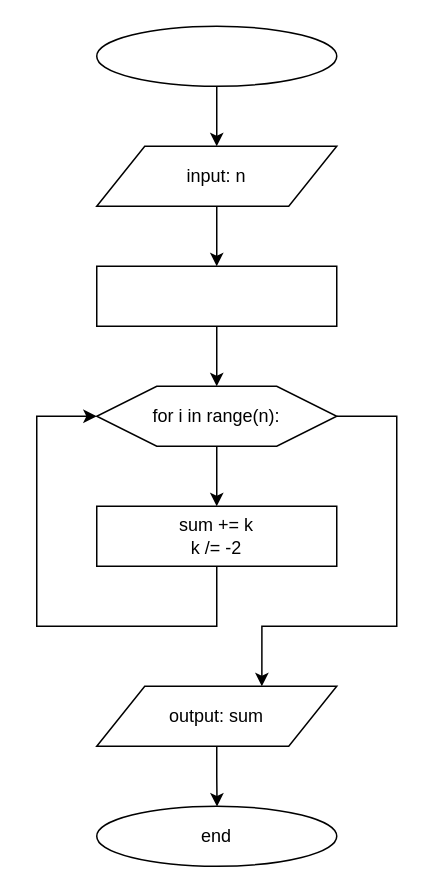
The diagram is 435 pixels wide and 893 high, and some of its shapes have lost their labels. Each missing label, with the box of its shape:
begin: (95, 25, 337, 86)
sum = 0 k = 1: (95, 265, 337, 326)
